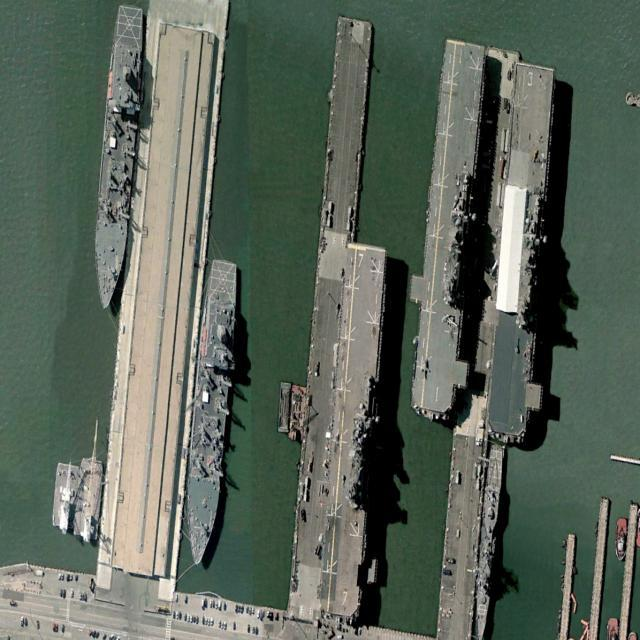Commander: (87, 4, 148, 313), (181, 255, 238, 568)
Frigate: (470, 443, 505, 640)
Landing: (399, 34, 497, 427), (305, 240, 403, 623), (473, 60, 569, 449)
